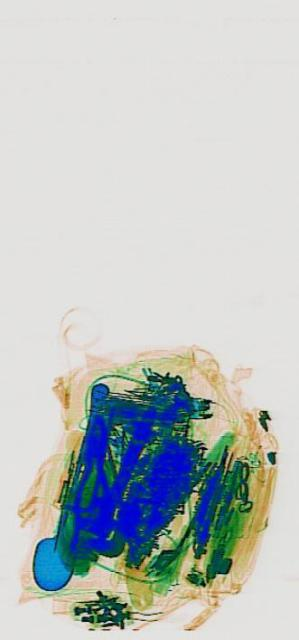Pliers: (66, 404, 113, 558)
